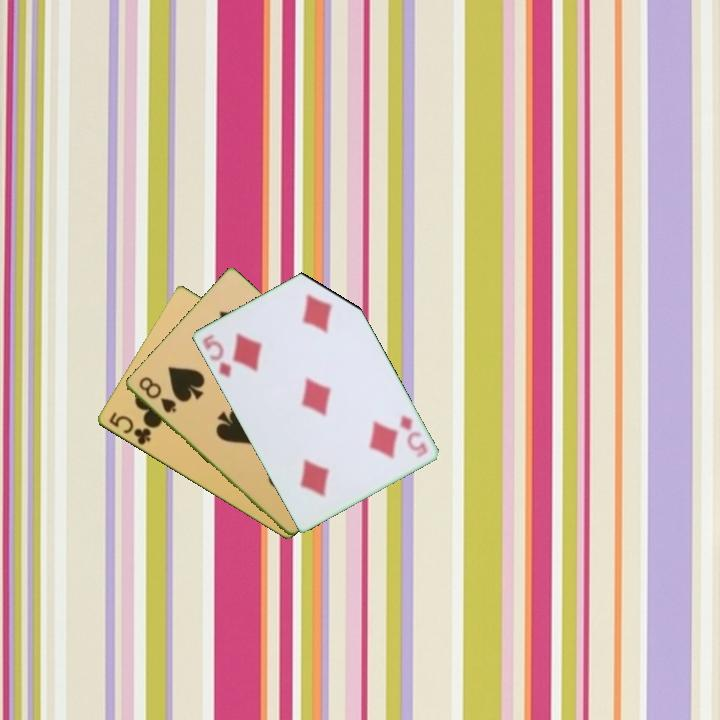5c: (105, 409, 154, 448)
5d: (198, 331, 234, 381), (396, 411, 430, 461)
8s: (135, 373, 179, 416)
